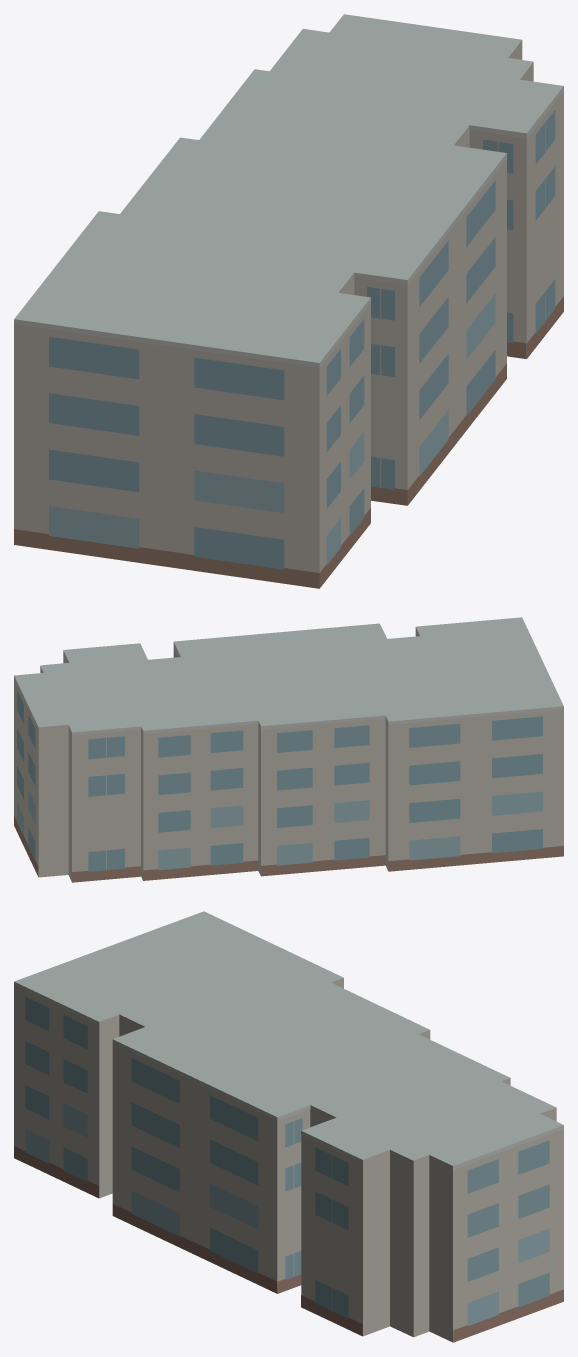
File: survey-upis-32614085.glb
3 renders of one model, top to bottom at view 1: azimuth 30°, elevation 25°; view 2: azimuth 150°, elevation 25°; view 3: azimuth 270°, elevation 25°, orthographic. The views are drawn at different scales.
Parts seen in each view (by area): view 1: survey-upis-32614085.tmp; view 2: survey-upis-32614085.tmp; view 3: survey-upis-32614085.tmp.
Part boxes in pixels (<box>): survey-upis-32614085.tmp: <box>14,14,563,588</box>; survey-upis-32614085.tmp: <box>14,617,563,882</box>; survey-upis-32614085.tmp: <box>14,911,563,1342</box>.
Bounding box in the file's own units: 34.36 × 11.1 × 31.33.
